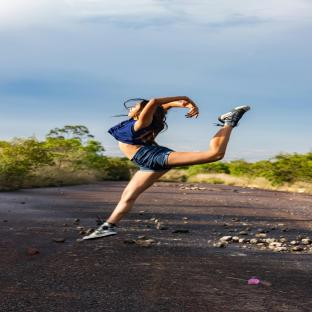Human: (84, 96, 250, 239)
